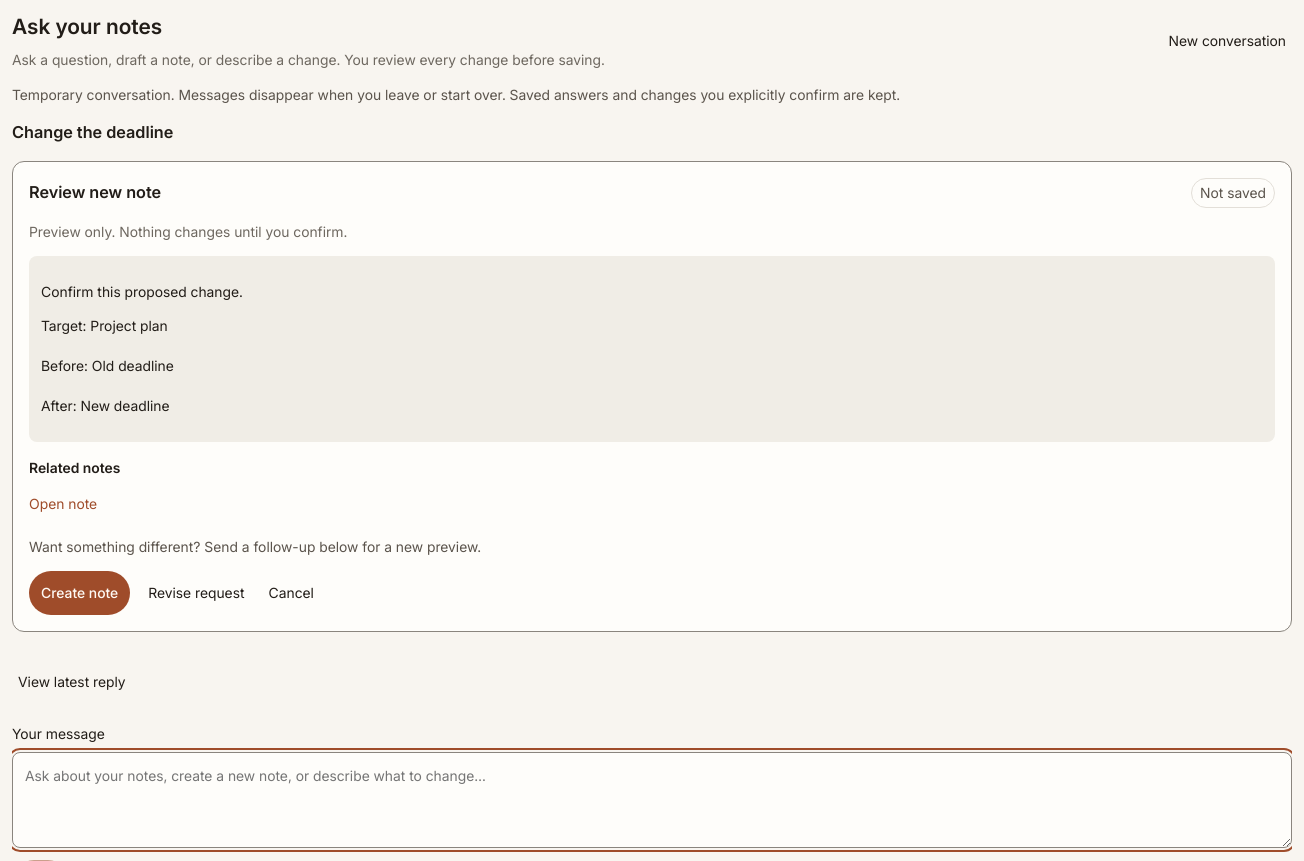
Test: shows the target and full preview without writes, then explicitly confirms Create note and offers guarded Undo
This screenshot has width=1304, height=861.
Check: the text "Target: Project plan" shows "Before: Old deadline", box [41, 317, 174, 414]
Check: the text "Target: Project plan" shows "After: New deadline", box [41, 317, 174, 414]
Click the button "Create note": point(80, 593) [29, 571, 130, 615]
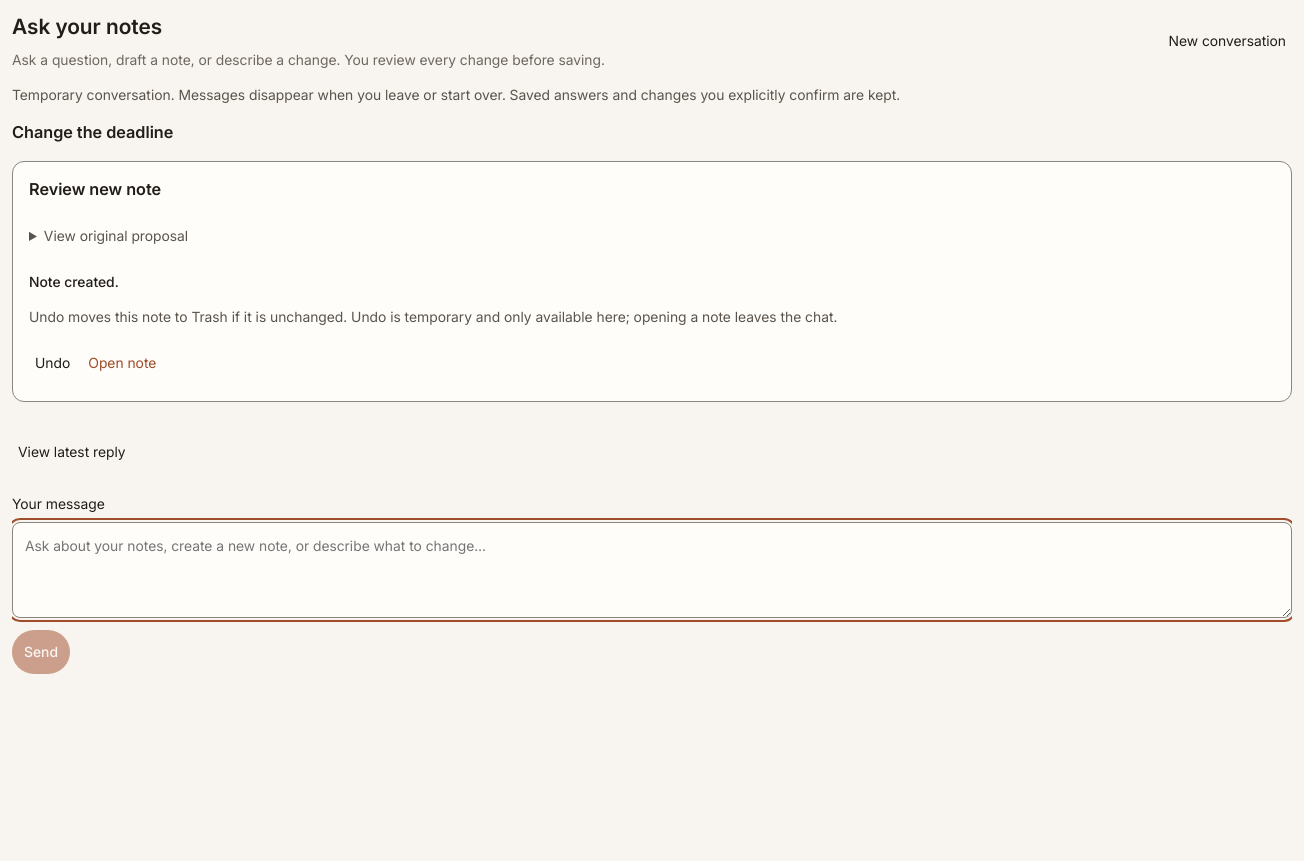
Check: the button "Undo" is shown
Click the button "Undo": point(53, 362) [29, 340, 76, 384]
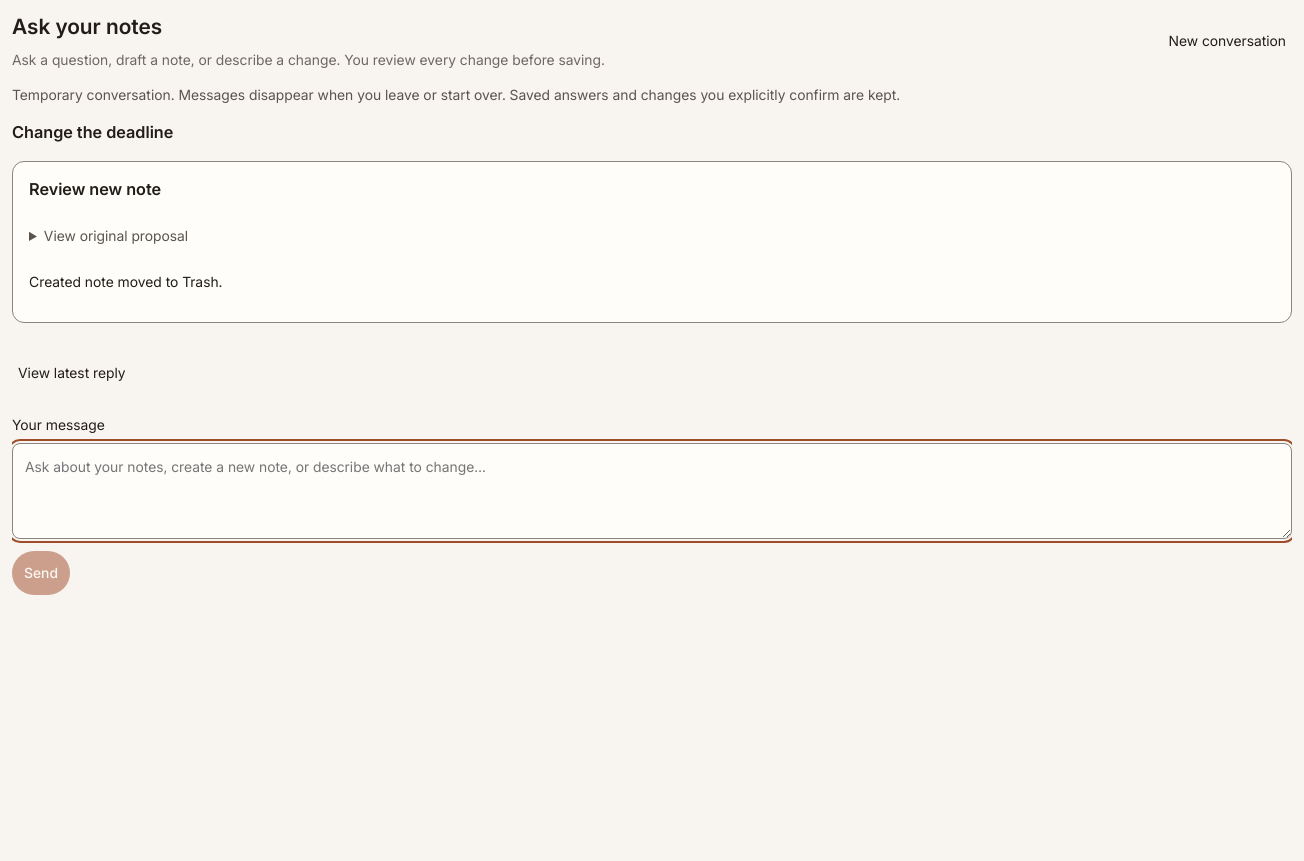
Check: the message reads "Created note moved to Trash.", box [29, 272, 222, 290]
Check: the text "Undo" is gone
